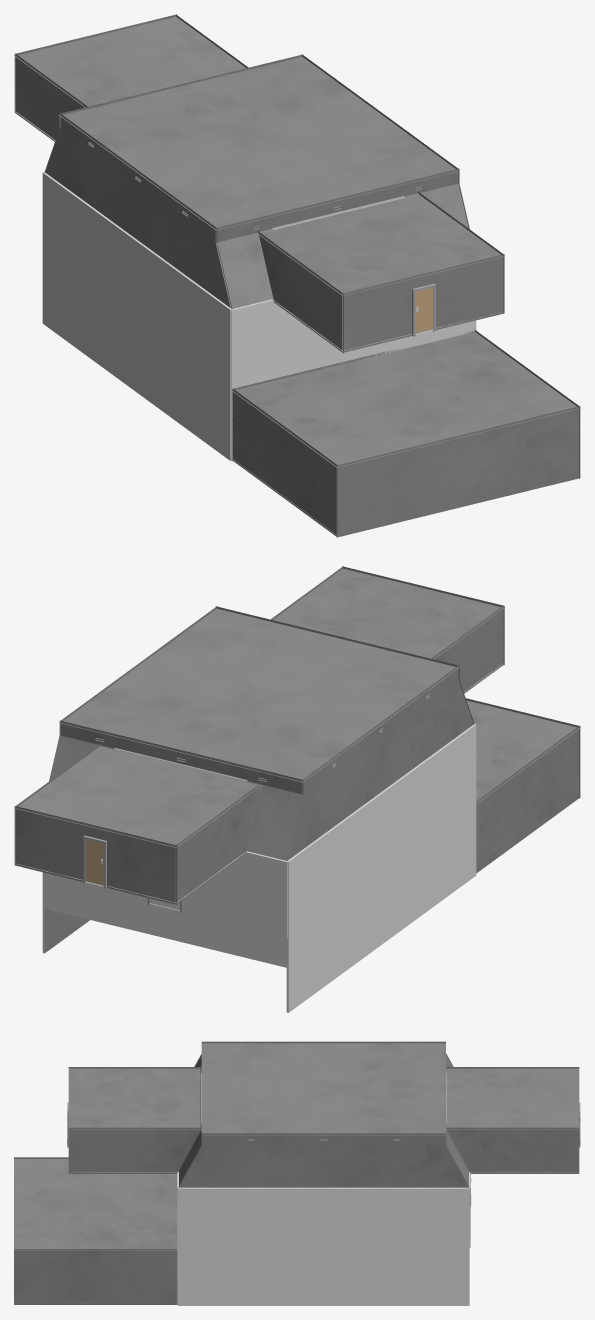
Rendered from NOAHBunkerTEMP.glb.
3 views of the same model, one above another, from view 1: azimuth 30°, elevation 25°; view 2: azimuth 150°, elevation 25°; view 3: azimuth 270°, elevation 25° (orthographic). The views are drawn at different scales.
Parts seen in each view (by area): view 1: prCeiling, Cube.024, srCeiling, srSWall, mrCeiling, prWWall, hoCeiling, mrNWall, Cube.021, prSWall, srWWall, mrEWall (+2 smaller); view 2: prCeiling, Cube.024, hoCeiling, prWWall, mrCeiling, hoNWall, prNWall, srWWall, Cube.011, Cube.022, srCeiling, hoEWall (+3 smaller); view 3: Cube.023, prCeiling, prEWall, srCeiling, srEWall, hoCeiling, mrCeiling, hoEWall, mrEWall, prWWall, prNWall, prSWall.
Part boxes in pixels (bbox=[...]): prCeiling: bbox=[59, 56, 459, 230]; Cube.024: bbox=[42, 172, 231, 460]; srCeiling: bbox=[232, 332, 580, 467]; srSWall: bbox=[336, 406, 580, 537]; mrCeiling: bbox=[257, 194, 504, 295]; prWWall: bbox=[45, 113, 232, 308]; hoCeiling: bbox=[15, 16, 246, 107]; mrNWall: bbox=[342, 254, 504, 352]; Cube.021: bbox=[231, 299, 475, 460]; prSWall: bbox=[215, 168, 469, 309]; srWWall: bbox=[233, 389, 337, 537]; mrEWall: bbox=[257, 192, 503, 352]; prCeiling: bbox=[59, 608, 459, 782]; Cube.024: bbox=[286, 724, 476, 1012]; hoCeiling: bbox=[14, 746, 261, 847]; prWWall: bbox=[287, 665, 473, 860]; mrCeiling: bbox=[273, 568, 503, 659]; hoNWall: bbox=[14, 806, 177, 904]; prNWall: bbox=[49, 720, 303, 912]; srWWall: bbox=[476, 725, 579, 873]; Cube.011: bbox=[43, 879, 287, 967]; Cube.022: bbox=[43, 851, 287, 938]; srCeiling: bbox=[466, 700, 580, 803]; hoEWall: bbox=[15, 744, 261, 904]; Cube.023: bbox=[178, 1187, 469, 1305]; prCeiling: bbox=[201, 1043, 445, 1135]; prEWall: bbox=[178, 1133, 469, 1187]; srCeiling: bbox=[14, 1159, 177, 1250]; srEWall: bbox=[14, 1249, 177, 1304]; hoCeiling: bbox=[446, 1068, 579, 1129]; mrCeiling: bbox=[68, 1068, 201, 1129]; hoEWall: bbox=[446, 1067, 579, 1173]; mrEWall: bbox=[68, 1067, 201, 1173]; prWWall: bbox=[194, 1041, 453, 1066]; prNWall: bbox=[446, 1055, 471, 1207]; prSWall: bbox=[179, 1055, 202, 1187].
Bounding box in the file's own units: 12.1 × 10.41 × 31.1.
12 materials, 2 textured.
